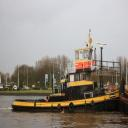tugboat: (12, 47, 127, 116)
